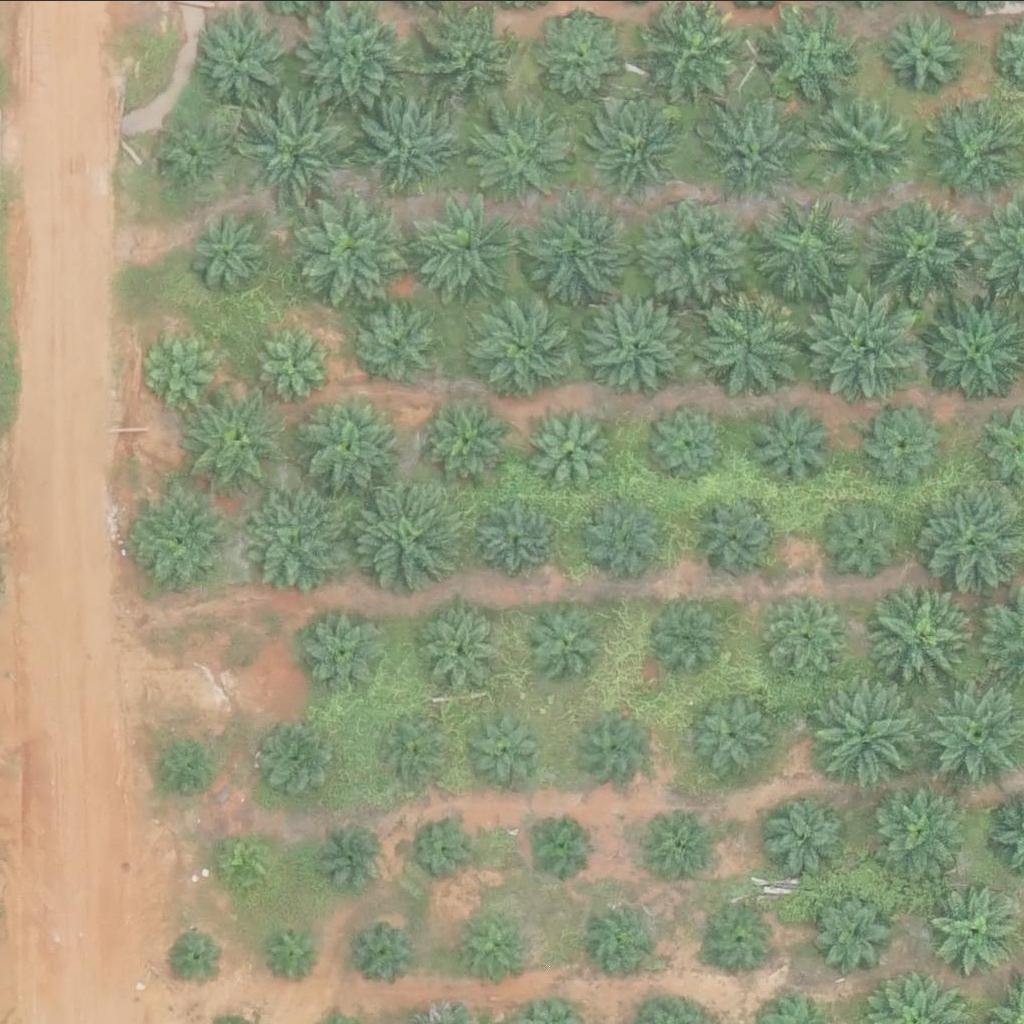Kelapa_Sawit: (227, 79, 352, 204), (244, 476, 358, 589), (351, 470, 465, 583), (808, 289, 922, 402), (291, 189, 404, 302), (410, 184, 523, 297), (519, 190, 632, 303), (809, 679, 922, 792), (637, 191, 751, 303), (866, 188, 980, 300), (695, 288, 809, 400), (806, 91, 919, 203), (869, 582, 982, 694), (131, 488, 232, 588), (182, 390, 283, 490), (357, 89, 458, 189), (472, 99, 573, 199), (593, 99, 694, 199), (303, 1, 404, 101), (419, 9, 520, 109), (869, 777, 970, 877), (302, 390, 402, 490), (469, 293, 569, 393), (583, 290, 683, 390), (704, 96, 804, 196), (755, 200, 855, 300), (691, 685, 780, 773), (201, 12, 289, 100), (536, 11, 624, 99), (763, 589, 851, 677), (808, 889, 896, 977), (934, 885, 1022, 973), (187, 206, 276, 293), (761, 795, 850, 882), (140, 318, 228, 405), (752, 401, 840, 488), (646, 395, 734, 482), (691, 486, 779, 573), (884, 9, 972, 96), (855, 397, 943, 484), (374, 707, 450, 782), (264, 723, 340, 798), (425, 609, 501, 684), (305, 614, 381, 689), (478, 494, 554, 569), (592, 496, 668, 571), (431, 402, 507, 477), (535, 407, 611, 482), (364, 300, 440, 375), (257, 325, 332, 400), (706, 897, 781, 972), (590, 909, 665, 984), (581, 708, 656, 783), (653, 603, 728, 678), (525, 601, 600, 676), (465, 707, 540, 782), (320, 820, 395, 895), (410, 806, 485, 881), (524, 808, 599, 883), (648, 805, 723, 880), (827, 501, 902, 576), (463, 911, 526, 974), (218, 834, 281, 897), (156, 742, 219, 805), (164, 118, 227, 180), (165, 925, 228, 987), (265, 921, 328, 983), (352, 921, 415, 983)
